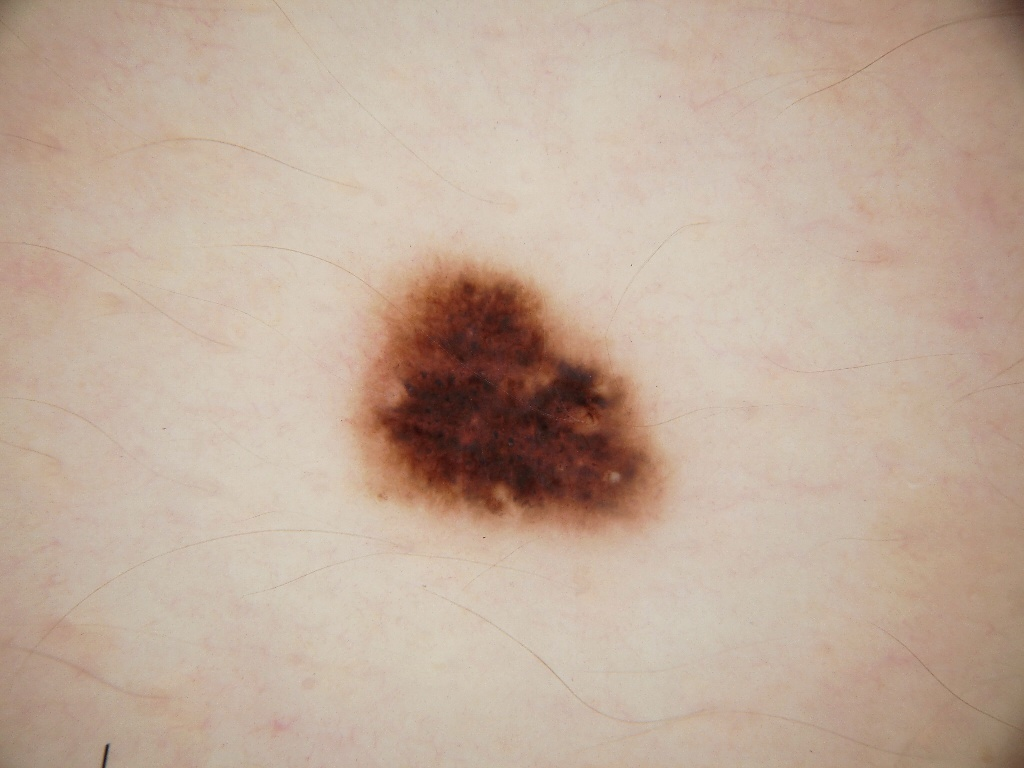Detected Lesion: (348, 252, 672, 536)
